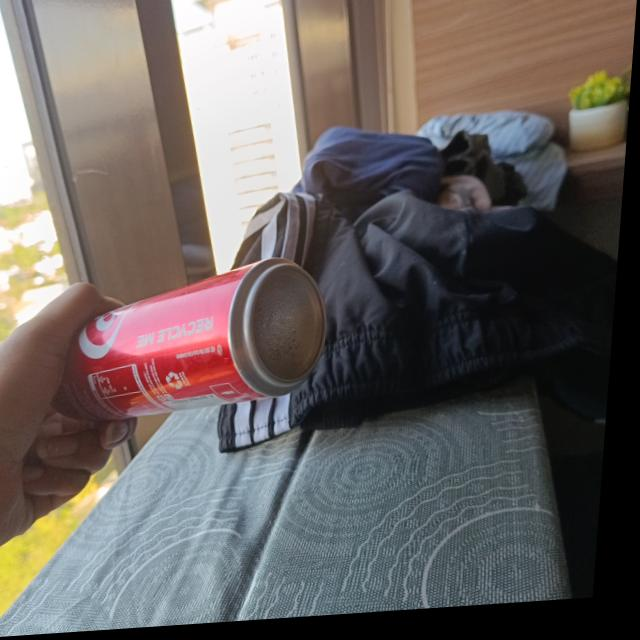coke: (57, 258, 337, 428)
